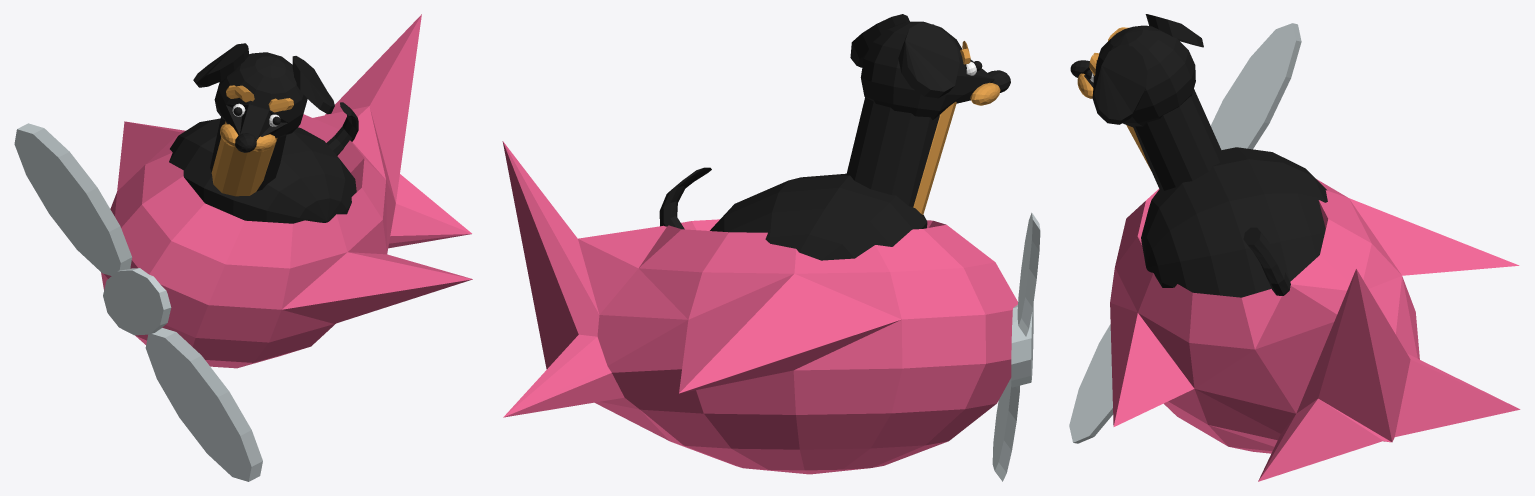
Rendered from dog in plane.gltf.
3 renders of one model, left to right at view 1: azimuth 30°, elevation 25°; view 2: azimuth 150°, elevation 25°; view 3: azimuth 270°, elevation 25°, orthographic. The views are drawn at different scales.
Visible parts, largest first — view 1: Node; view 2: Node; view 3: Node.
Part boxes in pixels (<box>): Node: <box>14,14,472,481</box>; Node: <box>502,14,1040,481</box>; Node: <box>1069,14,1520,481</box>.
Bounding box in the file's own units: 5.67 × 4.96 × 4.55.
